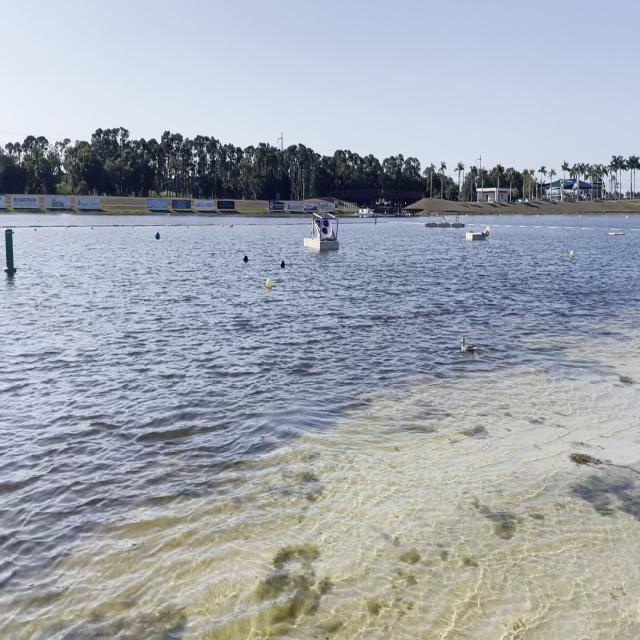buoy: (266, 276, 272, 292), (154, 229, 160, 239), (242, 250, 247, 262), (280, 260, 284, 270), (570, 248, 574, 258)
